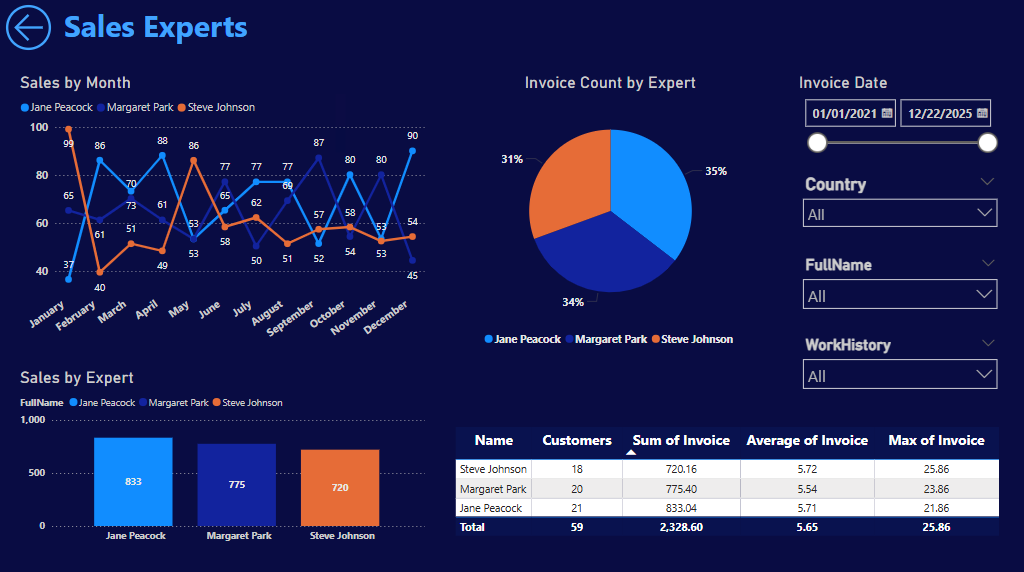

Layout of this report page (visuals, bound fields, positions):
{"tool":"powerbi","page":{"name":"Sales Experts","canvas":[1280,720],"ordinal":4},"visuals":[{"type":"columnChart","title":"Sales by Expert","fields":{"Y":["Measures (3).SumTotal"],"Category":["Employee.FullName"],"Series":["Employee.FullName"]},"box":[20,461.2,516.2,227.5],"z":0},{"type":"lineChart","title":"Sales by Month","fields":{"Y":["Measures (3).SumTotal"],"Category":["Invoice.InvoiceDate.Variation.Date Hierarchy.Month"],"Series":["Employee.FullName"]},"box":[20,92.5,516.2,351.2],"z":1000},{"type":"slicer","title":"Invoice Date","fields":{"Values":["Invoice.Date"]},"box":[993.8,92.5,262.5,115],"z":2000},{"type":"slicer","fields":{"Values":["Customer.Country"]},"box":[993.8,213.8,262.5,90],"z":3000},{"type":"slicer","fields":{"Values":["Employee.FullName"]},"box":[993.8,316.2,262.5,87.5],"z":4000},{"type":"pieChart","title":"Invoice Count by Expert","fields":{"Category":["Employee.FullName"],"Y":["CountNonNull(Invoice.InvoiceId)"]},"box":[578.8,92.5,368.8,351.2],"z":5000},{"type":"tableEx","fields":{"Values":["Employee.FullName","Invoice.CustomerId","Measures (3).SumTotal","Avg(Invoice.Total)","Max(Invoice.Total)1"]},"box":[563.4,530.3,706.3,158.9],"z":6000},{"type":"slicer","fields":{"Values":["Employee.WorkHistory"]},"box":[993.8,416.2,262.5,88.8],"z":7000},{"type":"actionButton","box":[0,0,71.2,71.2],"z":8000},{"type":"textbox","box":[75,2.5,253.8,68.8],"z":9000}]}

Visuals, with their boxes in screenshot pixels (x1, y1, x2, y2), scaled from the page's 1280x720 canvas onto the 1024x572 screenshot:
"Sales by Expert" columnChart: detection(16, 366, 429, 547)
"Sales by Month" lineChart: detection(16, 73, 429, 352)
"Invoice Date" slicer: detection(795, 73, 1005, 165)
slicer - Customer.Country: detection(795, 170, 1005, 241)
slicer - Employee.FullName: detection(795, 251, 1005, 321)
"Invoice Count by Expert" pieChart: detection(463, 73, 758, 352)
tableEx - Employee.FullName x Invoice.CustomerId: detection(451, 421, 1016, 548)
slicer - Employee.WorkHistory: detection(795, 331, 1005, 401)
actionButton: detection(0, 0, 57, 57)
textbox: detection(60, 2, 263, 57)
